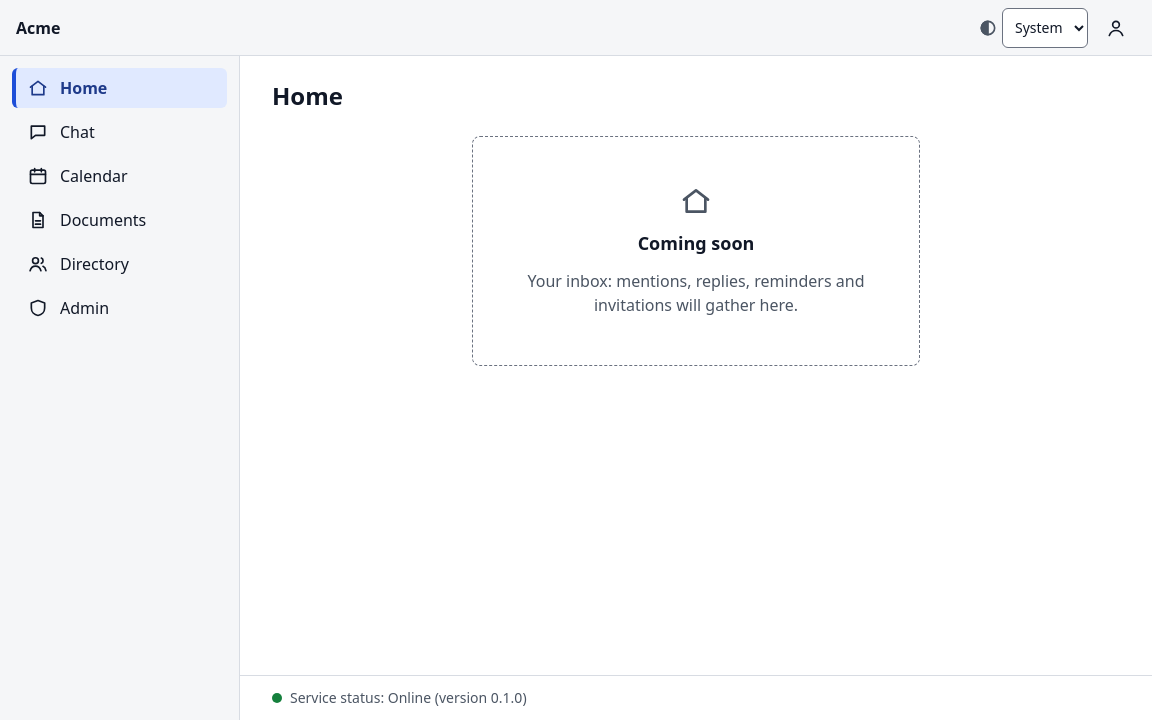
Test case: theme toggle › keeps every consumer in sync
Step 1. Select "Dark" in the dropdown named "Theme" → (1045, 28), box left=1002, top=8, right=1088, bottom=48
(page scrolled)
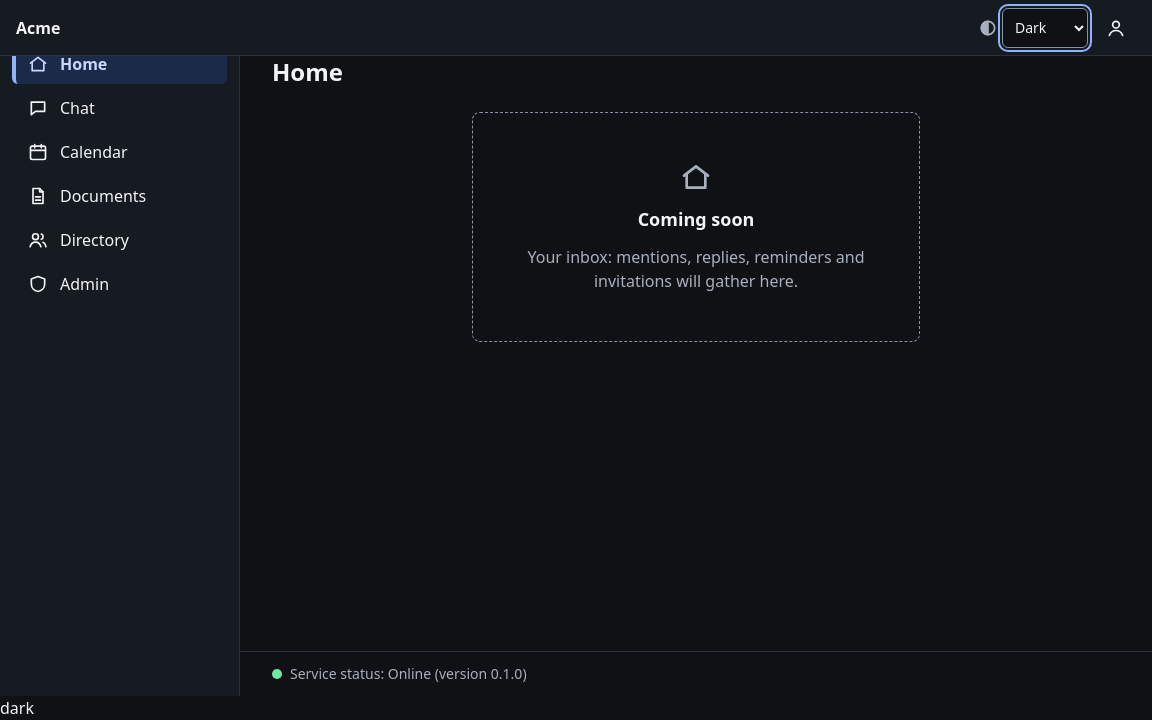
Now the text named "Second consumer" reads "dark", box left=0, top=697, right=34, bottom=719
